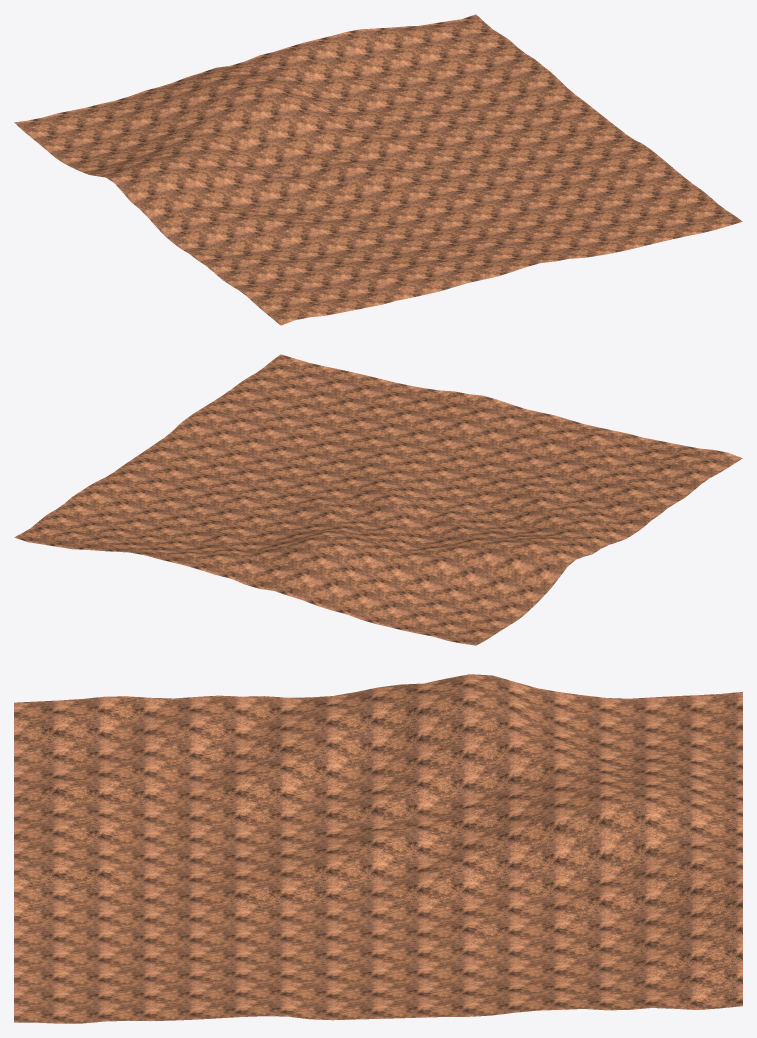
The model's file is terrain_02_04.dae.
3 renders of one model, top to bottom at view 1: azimuth 30°, elevation 25°; view 2: azimuth 150°, elevation 25°; view 3: azimuth 270°, elevation 25°, orthographic. The views are drawn at different scales.
Parts seen in each view (by area): view 1: terrain_02_04-node; view 2: terrain_02_04-node; view 3: terrain_02_04-node.
Boxes of the visible parts, left/top/right/bottom form: terrain_02_04-node: left=14, top=14, right=742, bottom=325; terrain_02_04-node: left=14, top=354, right=742, bottom=645; terrain_02_04-node: left=14, top=674, right=742, bottom=1023.
Bounding box in the file's own units: 128 × 128 × 9.54.
1 material, 1 textured.
